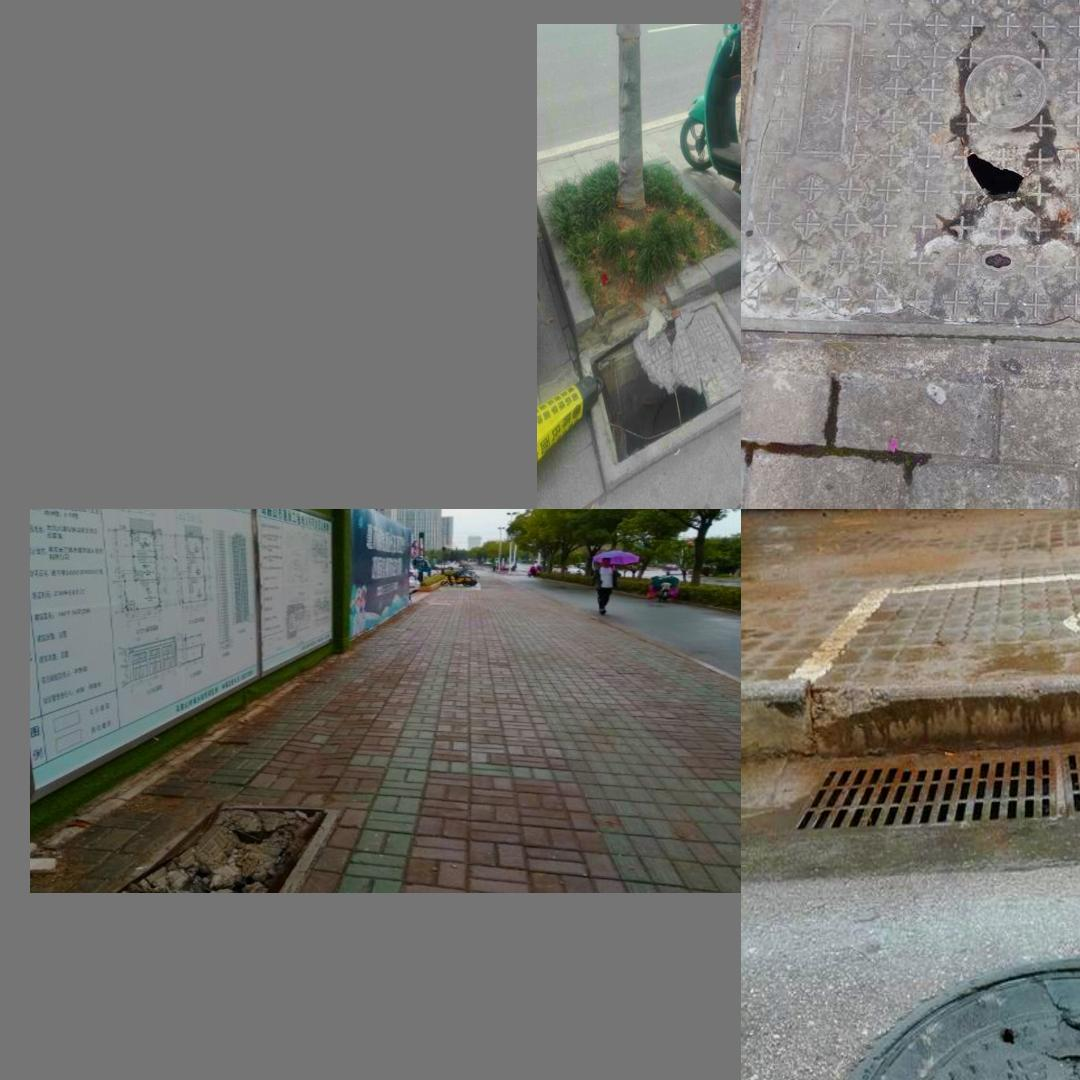broke: (742, 0, 1080, 390), (811, 937, 1080, 1080), (590, 300, 739, 465), (110, 799, 342, 893)
